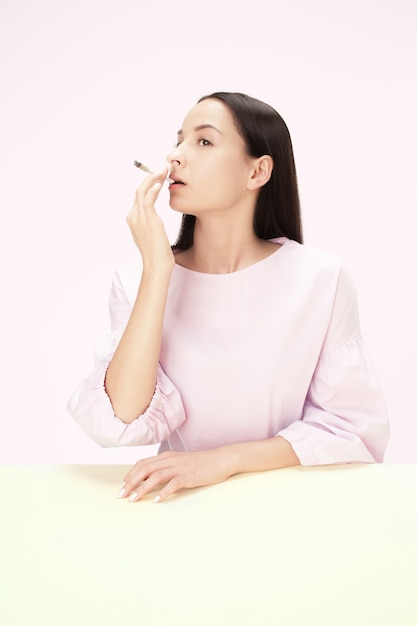cigarette: (129, 158, 176, 185)
